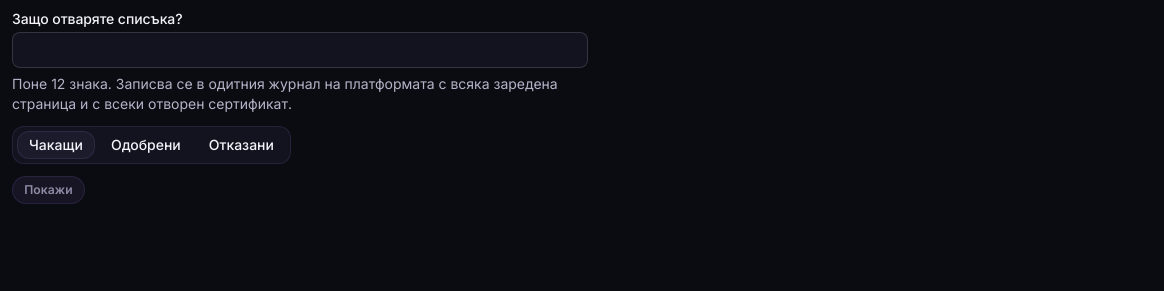
opening the list › says plainly when the grant lacks the capability
Type "approving the pilot coaches, 14 October" into the field labelled "Защо отваряте списъка?" at (300, 50), box [12,32,588,68]
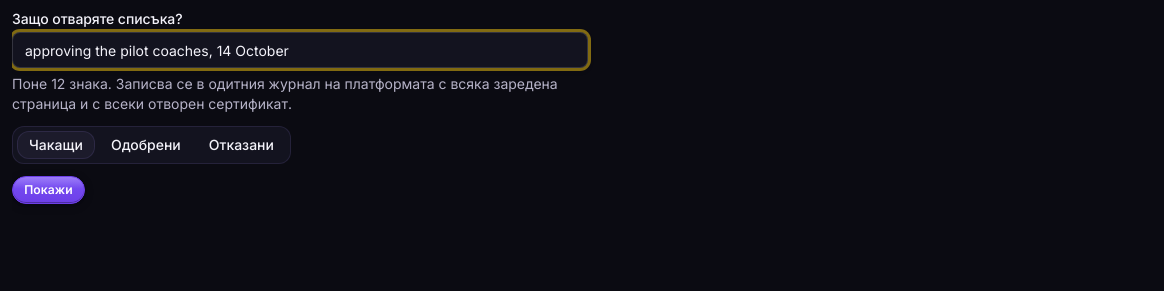
Click the button "Покажи" at (48, 190), box [12,176,85,204]
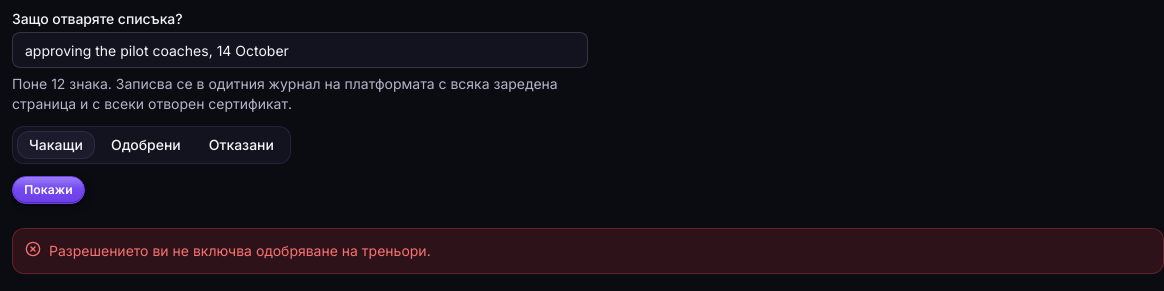
Check: the message reads "Разрешението ви не включва одобряване на треньори.", box [49,242,431,259]
